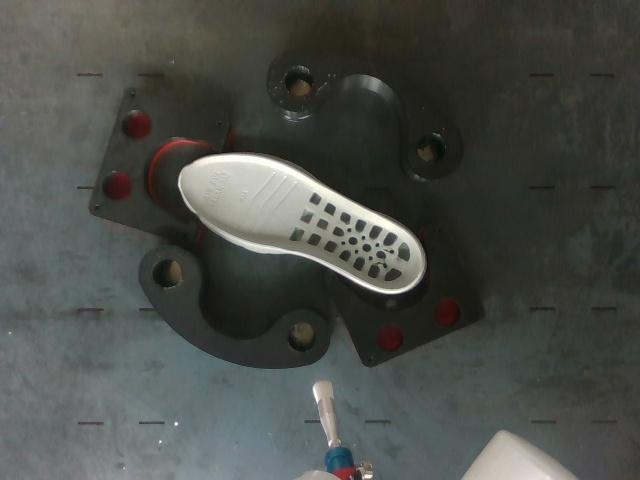shoes: (179, 156, 421, 289)
